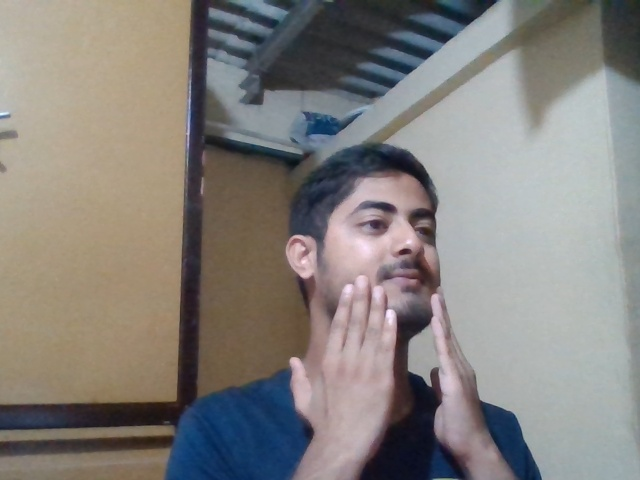ThankYou: (289, 275, 479, 450)
